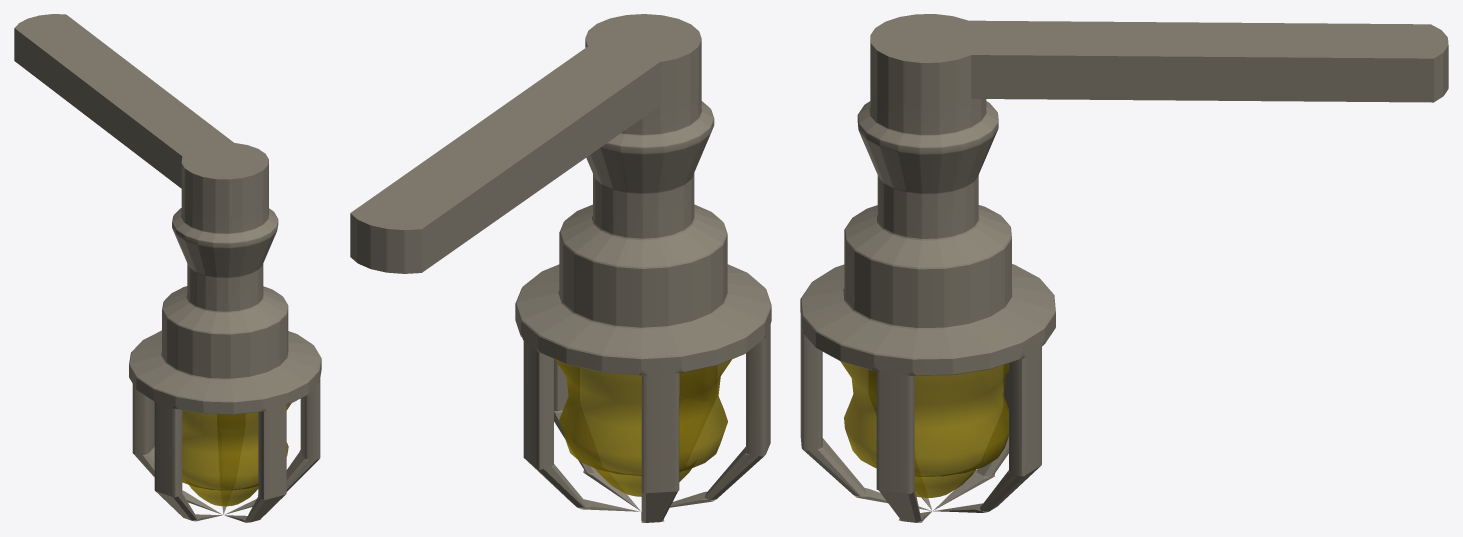
Rendered from haning wall light.fbx.
3 views of the same model, side by side, from view 1: azimuth 30°, elevation 25°; view 2: azimuth 150°, elevation 25°; view 3: azimuth 270°, elevation 25° (orthographic). The views are drawn at different scales.
Parts seen in each view (by area): view 1: cage_light_hanging1, bulb; view 2: cage_light_hanging1, bulb; view 3: cage_light_hanging1, bulb.
Boxes of the visible parts, x1,y1,x2,y2 form: cage_light_hanging1: [14, 14, 321, 522]; bulb: [182, 403, 291, 506]; cage_light_hanging1: [350, 14, 771, 522]; bulb: [555, 359, 731, 496]; cage_light_hanging1: [800, 14, 1448, 522]; bulb: [840, 361, 1008, 497].
Bounding box in the file's own units: 22.61 × 46.15 × 57.35.
